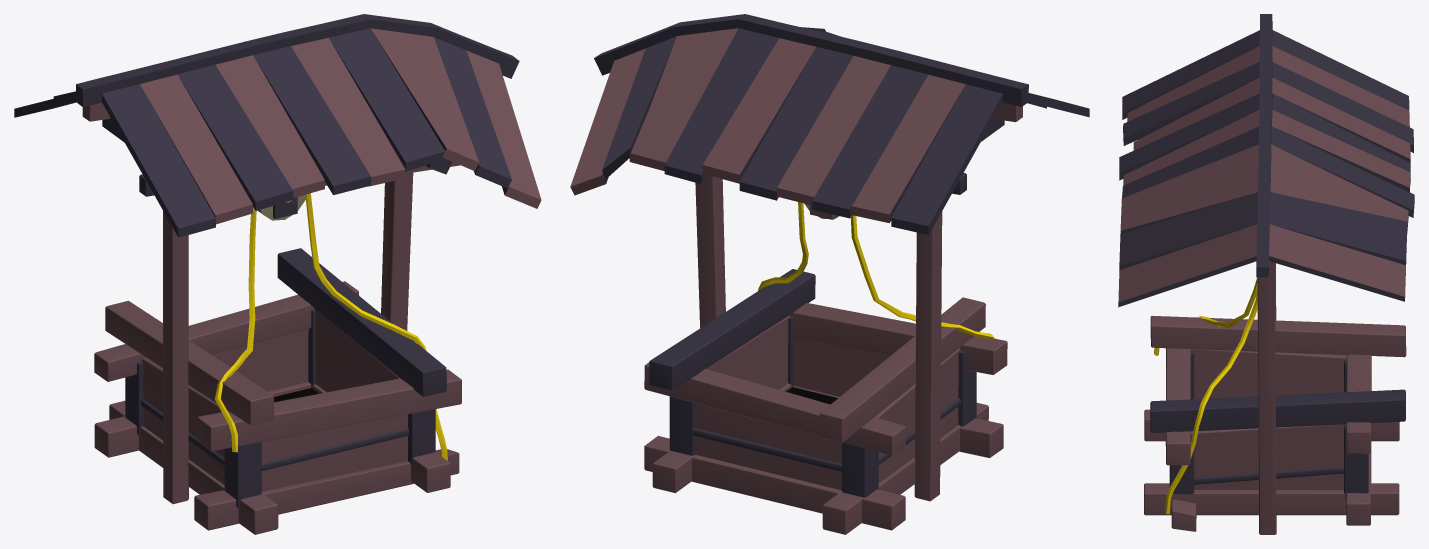
Rendered from Well.fbx.
The picture shows the model from 3 angles, left to right: view 1: azimuth 30°, elevation 25°; view 2: azimuth 150°, elevation 25°; view 3: azimuth 270°, elevation 25°; orthographic projection. The views are drawn at different scales.
Parts seen in each view (by area): view 1: Well; view 2: Well; view 3: Well.
Boxes of the visible parts, x1,y1,x2,y2 form: Well: (14, 14, 541, 534); Well: (570, 14, 1089, 534); Well: (1118, 14, 1414, 534).
Size of the model in its own units: 266 by 257 by 179.
